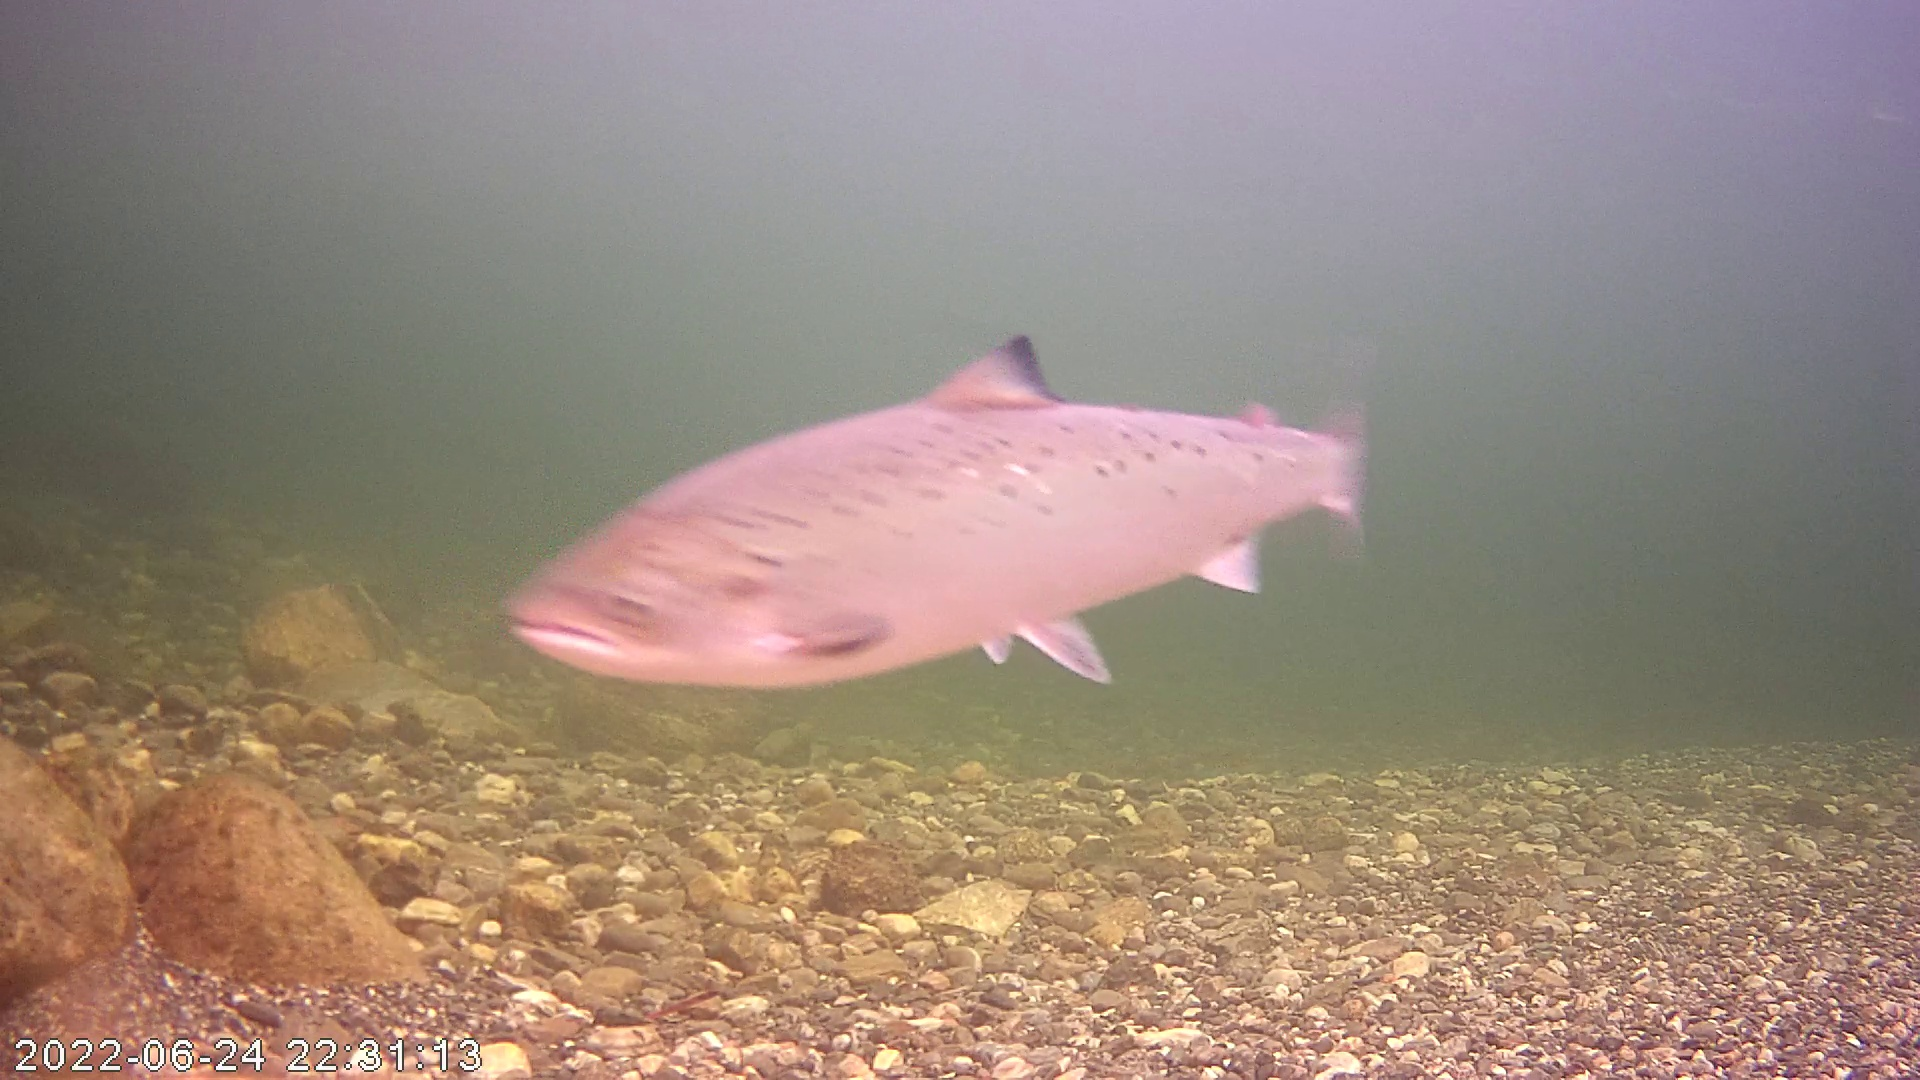salmon: (501, 334, 1366, 700)
